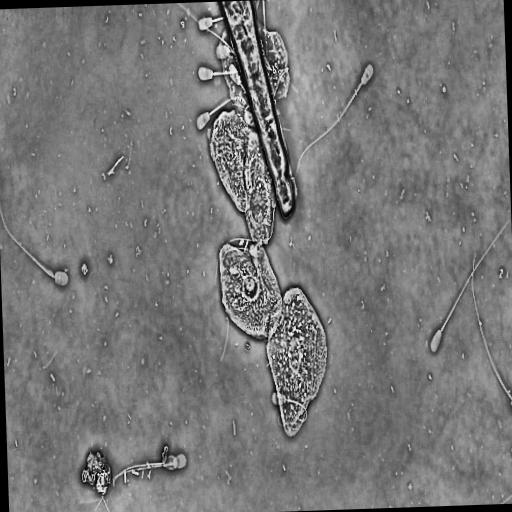dirt-particles: (204, 0, 331, 441), (79, 446, 112, 498)
normal: (427, 215, 509, 355), (293, 59, 376, 182), (0, 205, 69, 288), (92, 452, 187, 512), (98, 452, 178, 509)
